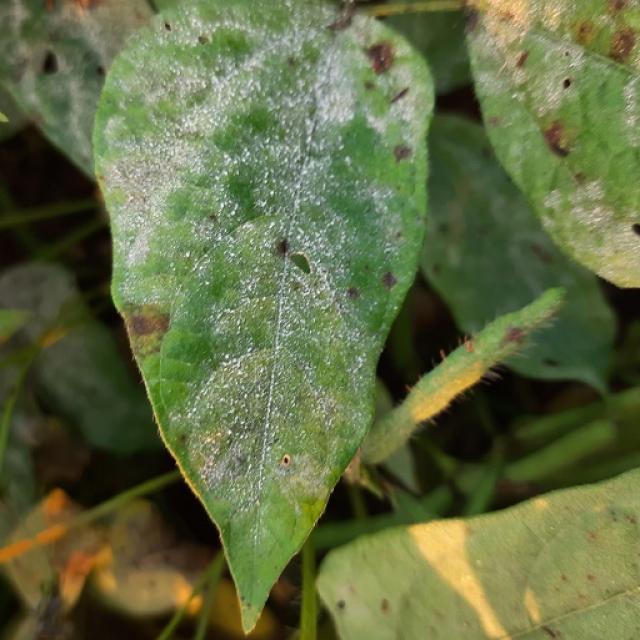Blackgram: (93, 1, 437, 634)
Powdery_Mildew: (211, 243, 362, 422), (223, 114, 361, 276), (141, 37, 298, 174), (155, 2, 328, 78), (108, 126, 208, 249), (511, 39, 600, 139), (199, 378, 274, 483), (303, 35, 366, 145), (115, 145, 201, 220), (196, 412, 271, 496), (303, 236, 338, 362), (560, 170, 631, 232), (312, 45, 360, 131), (614, 60, 640, 176), (222, 352, 232, 363)
